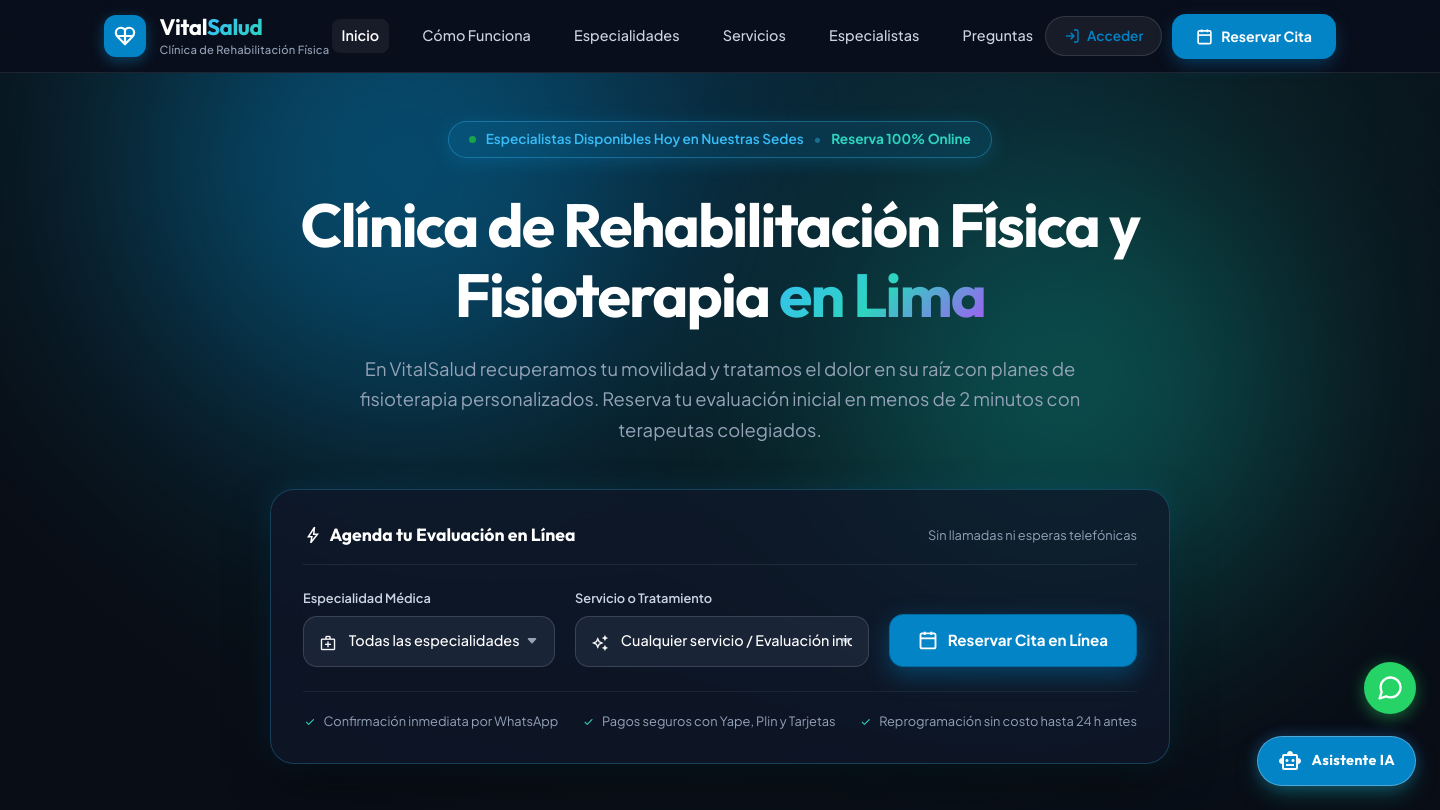
Test case: App Root Component Navigation › navigates to Booking Wizard when clicking Reservar Cita and returns to home
Click the button "Reservar Cita". click: coordinates (1254, 36)
box: [1172, 14, 1336, 59]
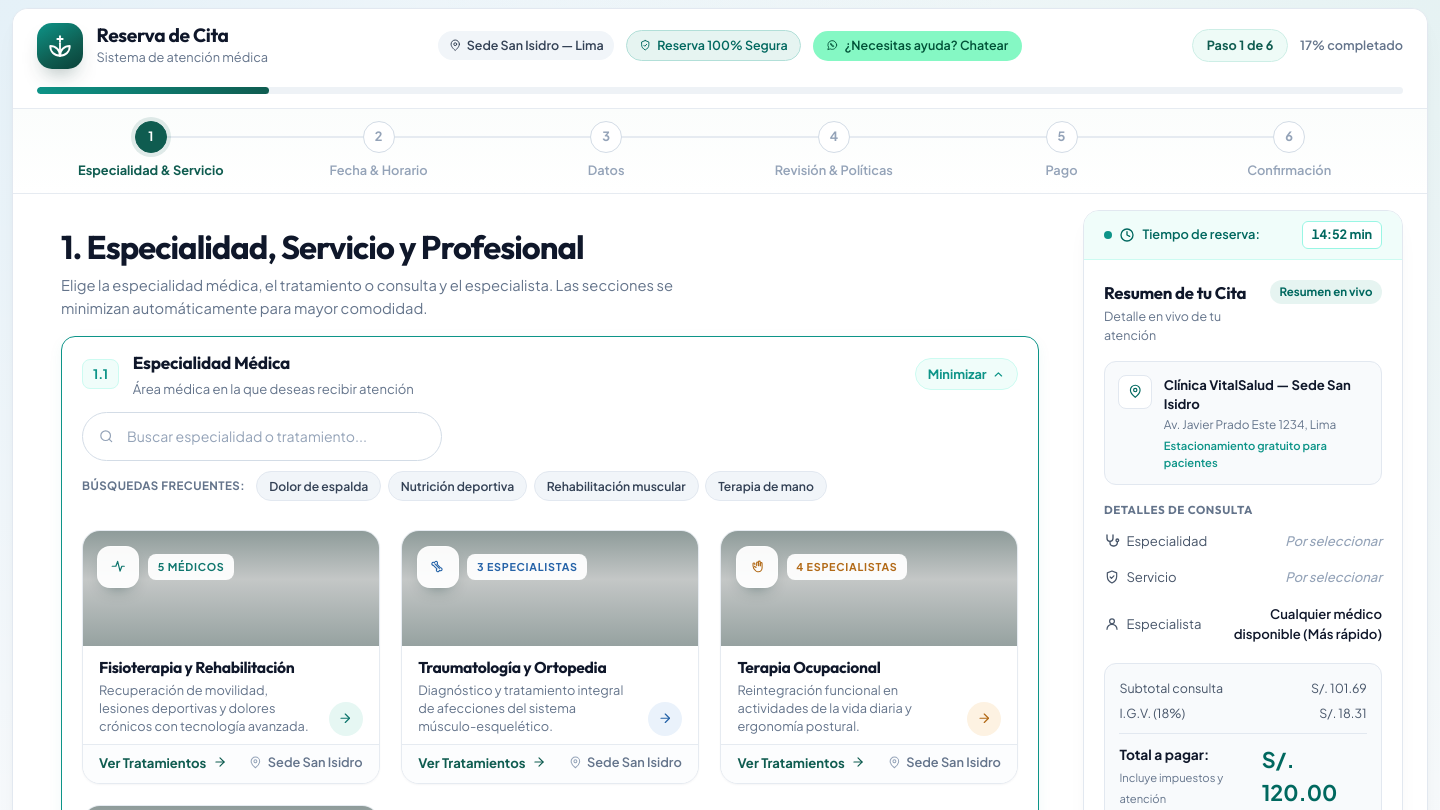
Now the heading "1. Especialidad, Servicio y Profesional" is shown, box [61, 226, 584, 268]
